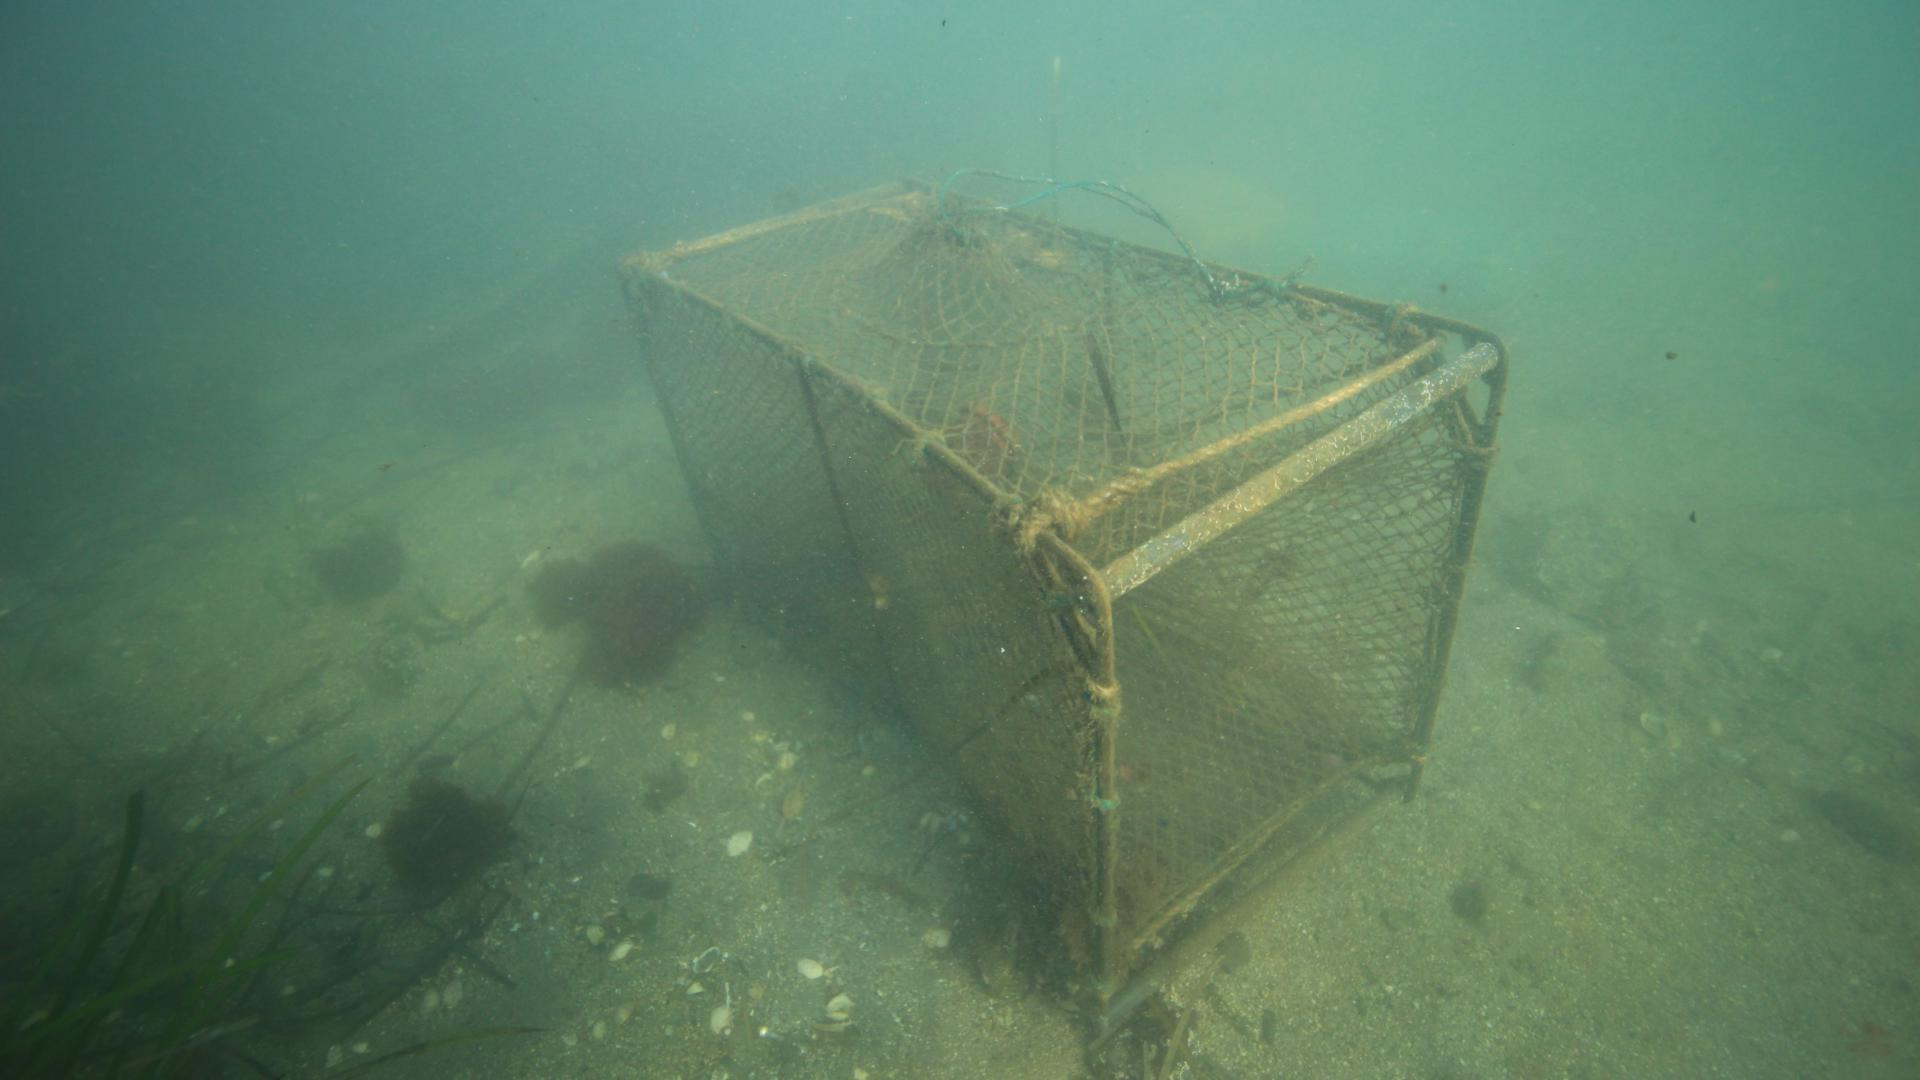rectangular fish trap: (615, 170, 1513, 1026)
